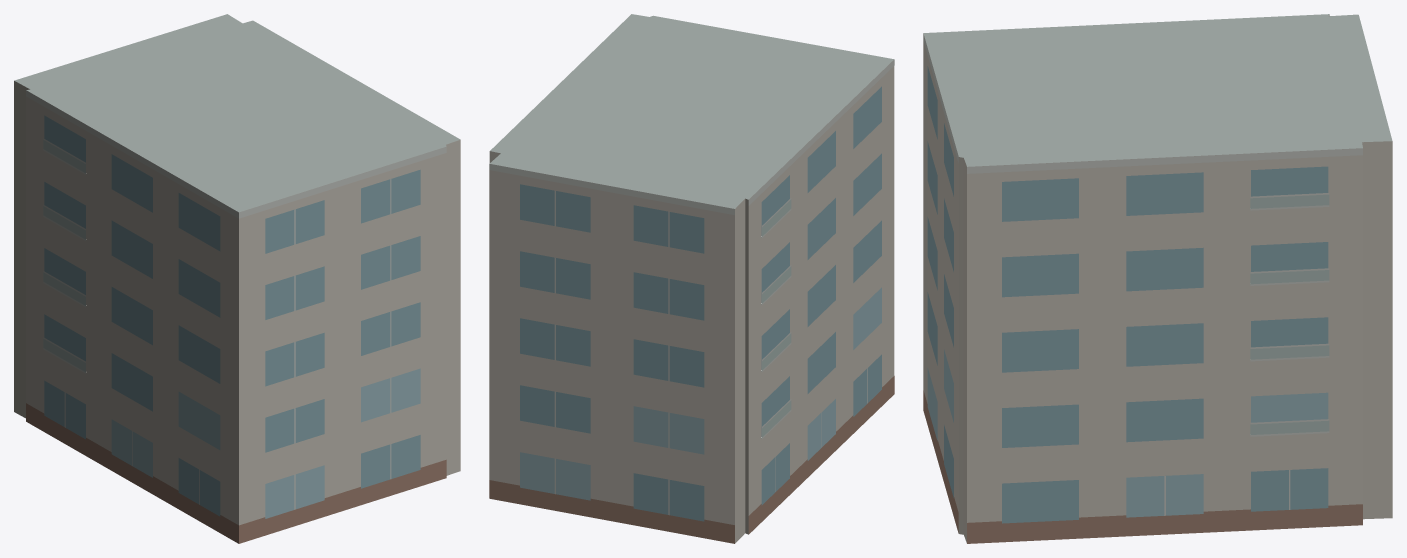
File: survey-upis-32887503.glb
The picture shows the model from 3 angles, left to right: view 1: azimuth 30°, elevation 25°; view 2: azimuth 150°, elevation 25°; view 3: azimuth 270°, elevation 25°; orthographic projection. The views are drawn at different scales.
Parts seen in each view (by area): view 1: survey-upis-32887503.tmp; view 2: survey-upis-32887503.tmp; view 3: survey-upis-32887503.tmp.
Boxes of the visible parts, box(x1,y1,x2,y2) form: survey-upis-32887503.tmp: box(14, 14, 460, 543); survey-upis-32887503.tmp: box(489, 14, 894, 543); survey-upis-32887503.tmp: box(923, 14, 1392, 543).
Bounding box in the file's own units: 11.31 × 13 × 14.67.
